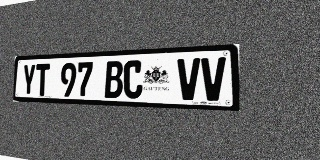7: (76, 62, 93, 97)
9: (60, 62, 77, 97)
B: (105, 61, 123, 98)
C: (123, 60, 143, 99)
T: (35, 63, 50, 96)
V: (201, 57, 226, 101), (177, 58, 200, 100)
Y: (22, 64, 36, 96)
